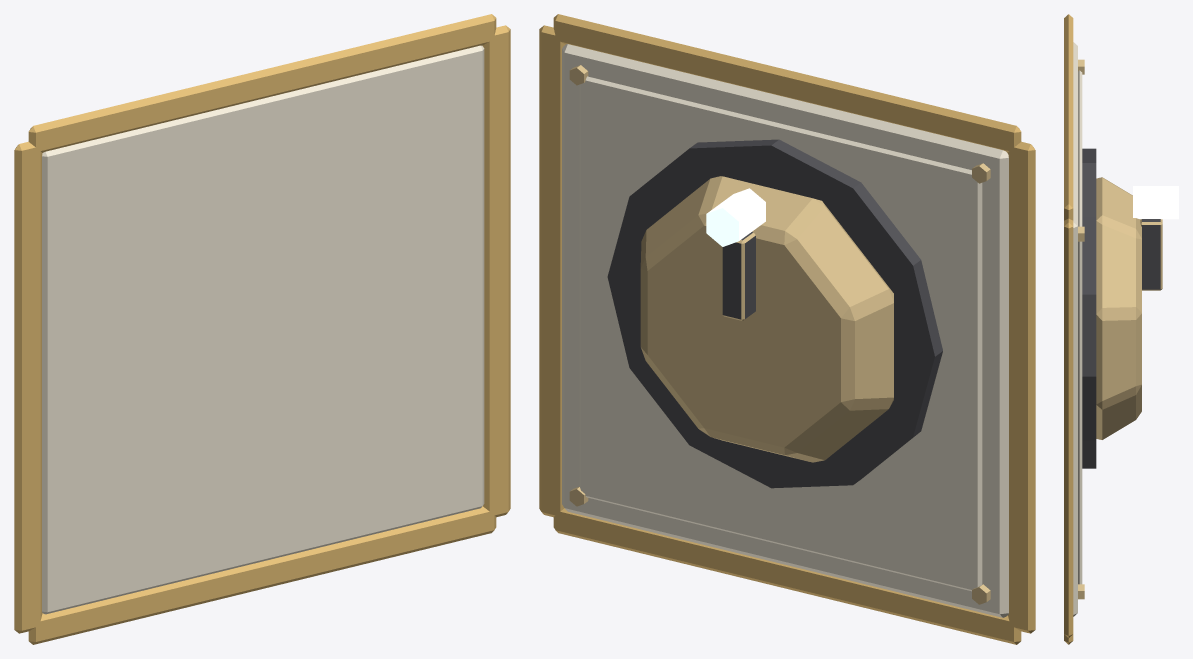
The model's file is Ctl_Dial.fbx.
3 renders of one model, left to right at view 1: azimuth 30°, elevation 25°; view 2: azimuth 150°, elevation 25°; view 3: azimuth 270°, elevation 25°, orthographic. The views are drawn at different scales.
Visible parts, largest first — view 1: Ctl_Dial, Ctl_Dial_Frame; view 2: Ctl_Dial, Moving.006, Ctl_Dial_Frame; view 3: Moving.006, Ctl_Dial, Ctl_Dial_Frame.
Boxes of the visible parts, x1=… form: Ctl_Dial: x1=42, y1=45, x2=484, y2=614; Ctl_Dial_Frame: x1=14, y1=14, x2=510, y2=644; Ctl_Dial: x1=562, y1=44, x2=1008, y2=617; Moving.006: x1=640, y1=176, x2=893, y2=462; Ctl_Dial_Frame: x1=539, y1=14, x2=1035, y2=644; Moving.006: x1=1096, y1=177, x2=1178, y2=439; Ctl_Dial: x1=1073, y1=42, x2=1096, y2=616; Ctl_Dial_Frame: x1=1064, y1=14, x2=1073, y2=644.
Size of the model in its own units: 1.06 by 1.06 by 0.25.
